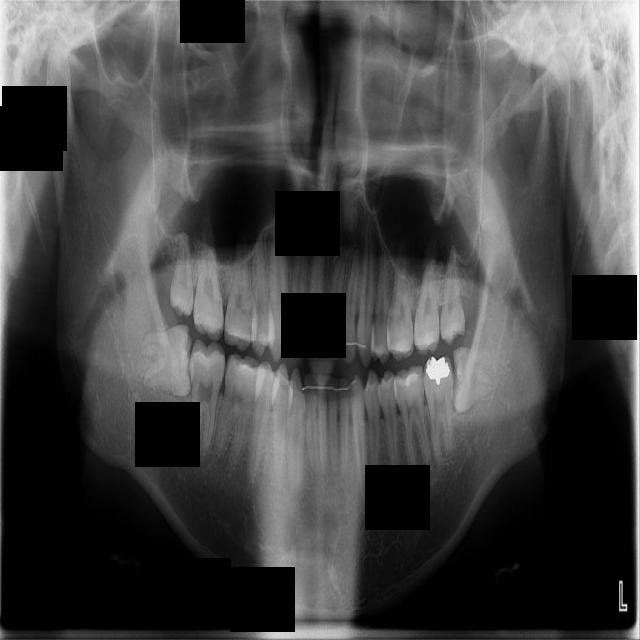3M ESPE Implant: (166, 229, 195, 319)
52: (423, 355, 454, 400)
73: (620, 616, 626, 624)
BioHorizons Implant: (411, 236, 440, 357)
BioLife Implant: (439, 247, 465, 346)
Biomet 3i Implant: (452, 347, 495, 413)
Blue Sky Bio Implant: (422, 354, 458, 467)
Caries: (181, 200, 227, 346)
Implant: (171, 335, 231, 464)
Keystone Dental Implant: (140, 321, 196, 399)
